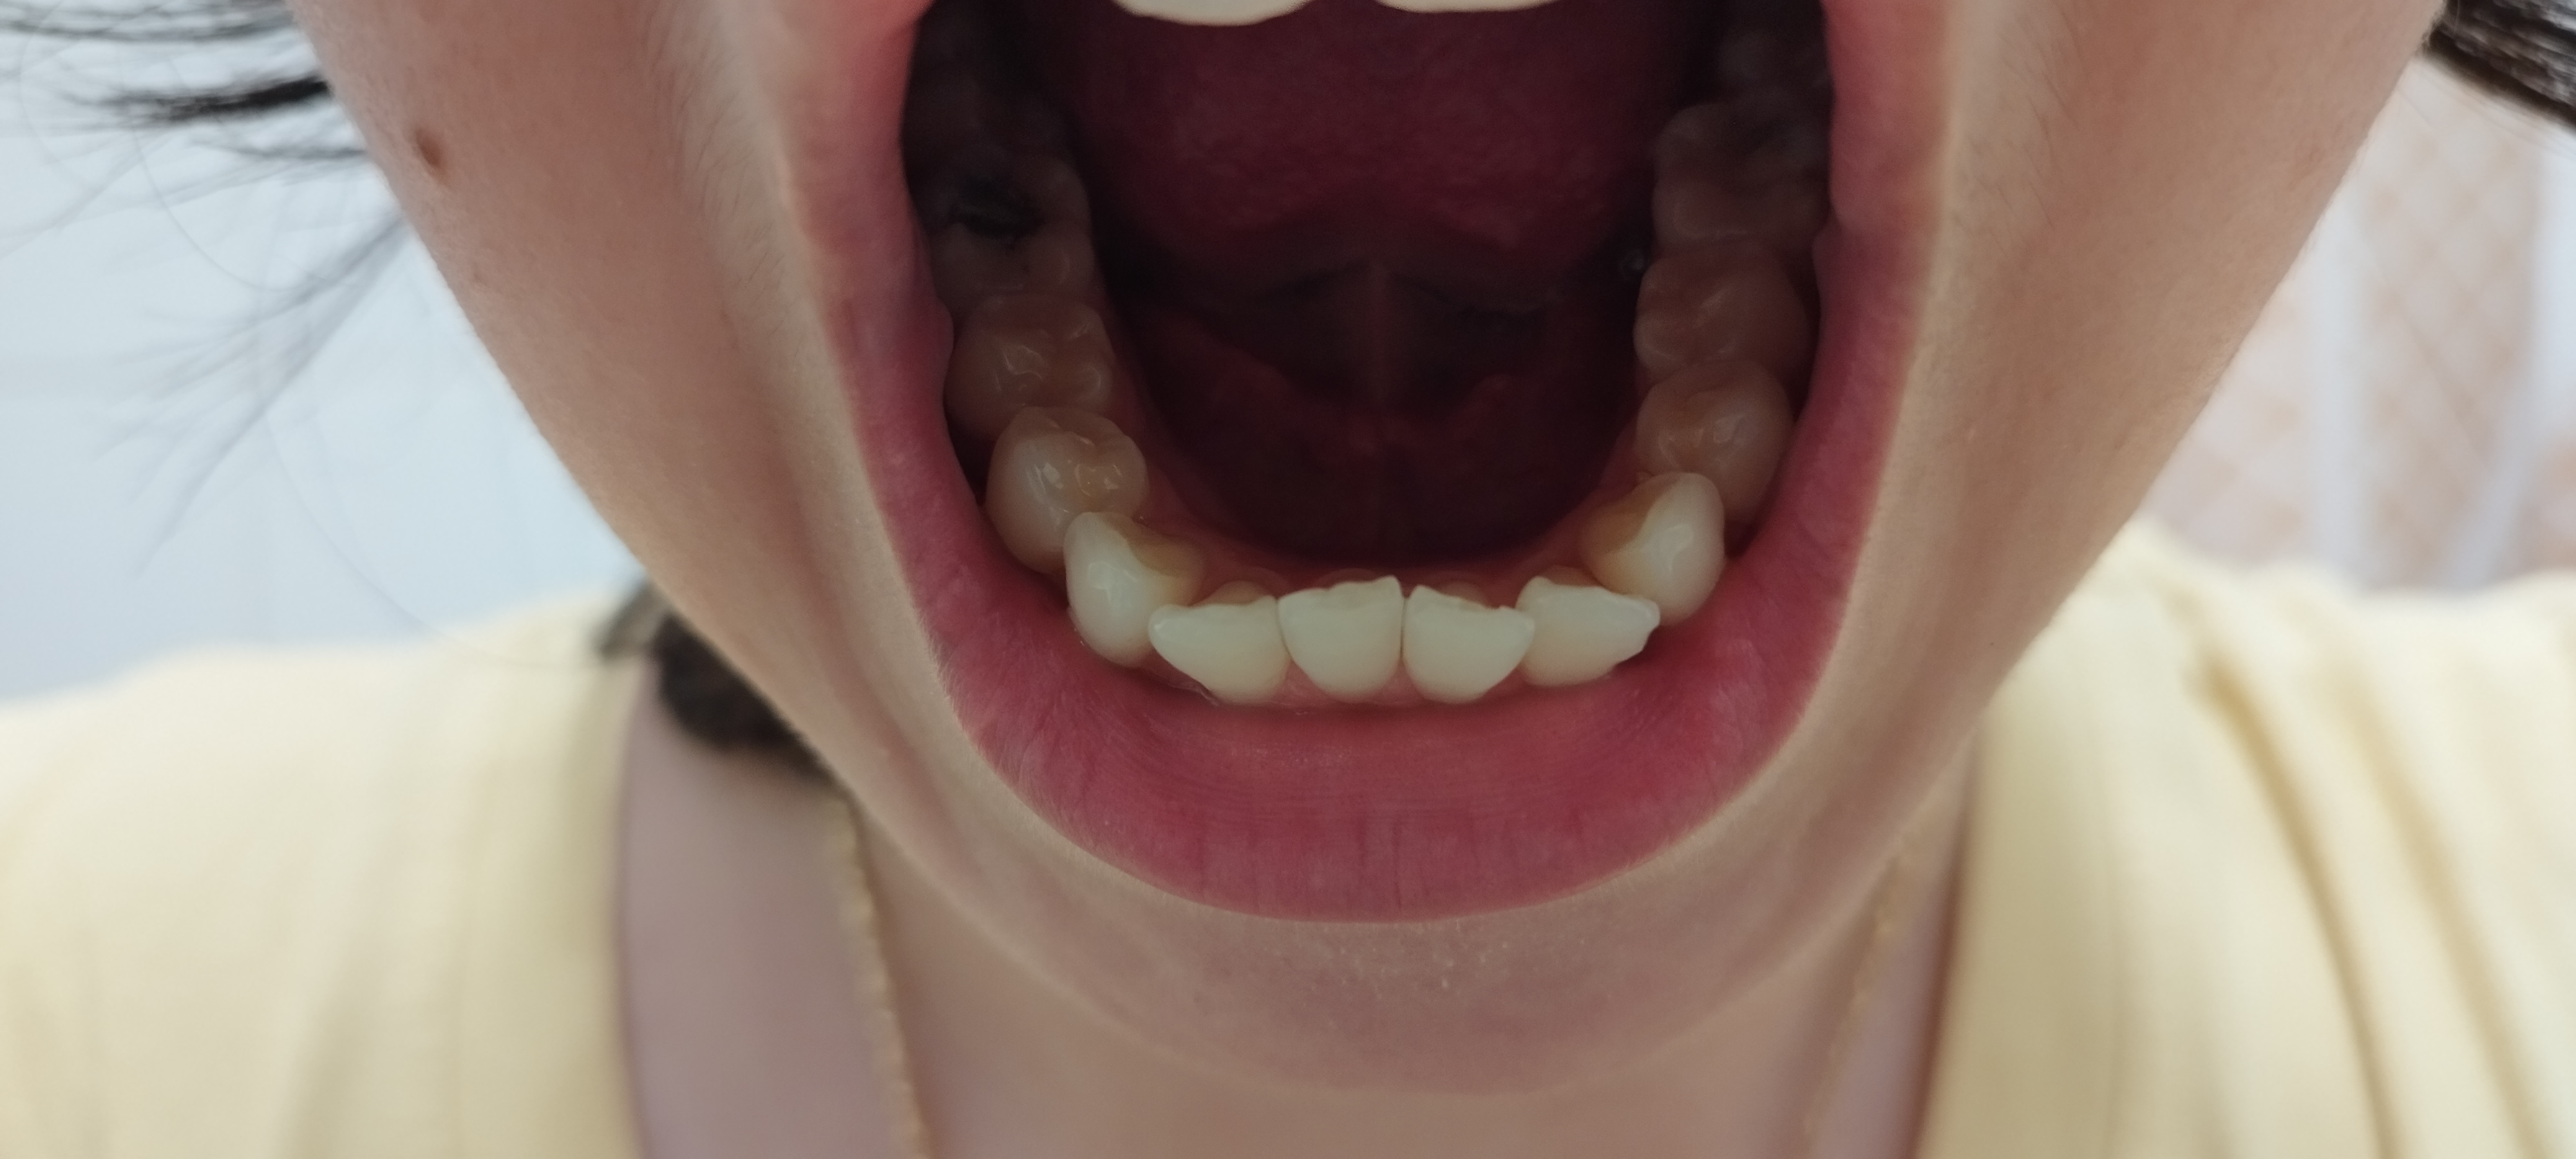teeth: (1656, 90, 1828, 240), (979, 415, 1148, 563), (941, 143, 1096, 297), (1641, 241, 1817, 366), (1068, 514, 1199, 662), (1584, 486, 1725, 619), (1638, 373, 1786, 497), (971, 297, 1117, 417), (1157, 581, 1291, 706), (1521, 584, 1656, 685), (1296, 578, 1406, 694), (1408, 593, 1521, 703)
